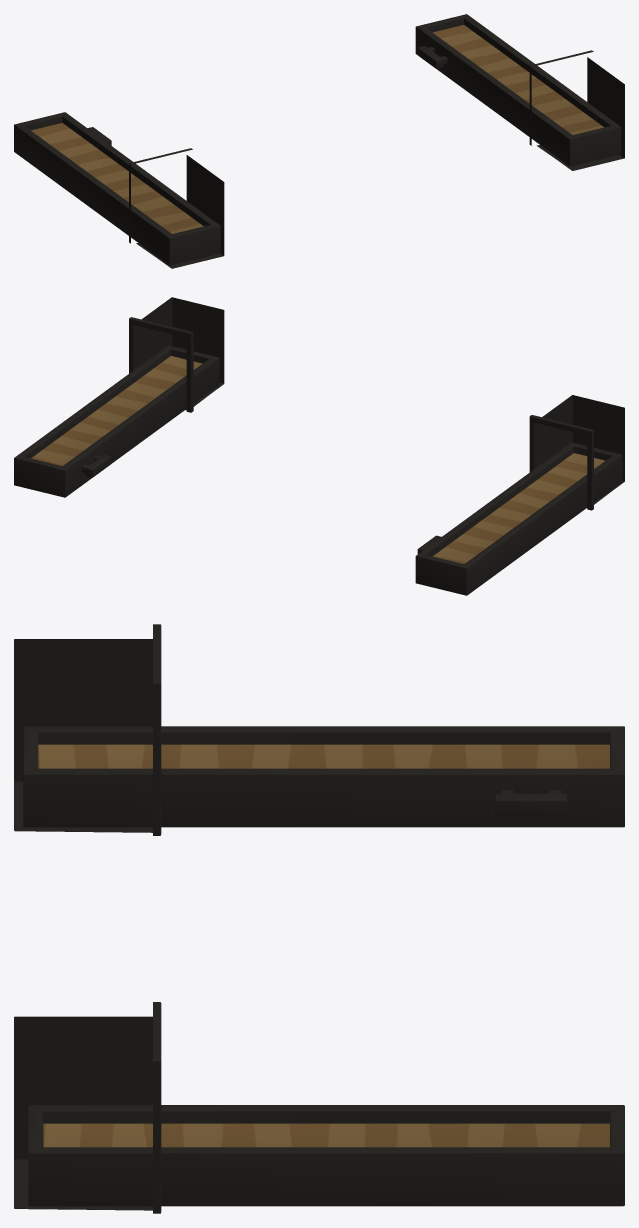
Rendered from DefaultLevel_N_Conveyer.fbx.
3 renders of one model, top to bottom at view 1: azimuth 30°, elevation 25°; view 2: azimuth 150°, elevation 25°; view 3: azimuth 270°, elevation 25°, orthographic. The views are drawn at different scales.
Visible parts, largest first — view 1: DefaultLevel_N_Conveyer; view 2: DefaultLevel_N_Conveyer; view 3: DefaultLevel_N_Conveyer.
Boxes of the visible parts, x1,y1,x2,y2 form: DefaultLevel_N_Conveyer: [14, 14, 624, 268]; DefaultLevel_N_Conveyer: [14, 297, 624, 595]; DefaultLevel_N_Conveyer: [14, 624, 624, 1213].
Bounding box in the file's own units: 1800 × 297 × 1064.
